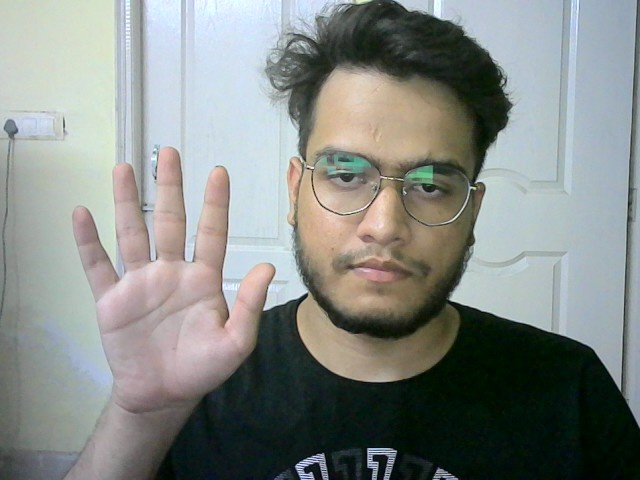Hello: (71, 148, 275, 398)
